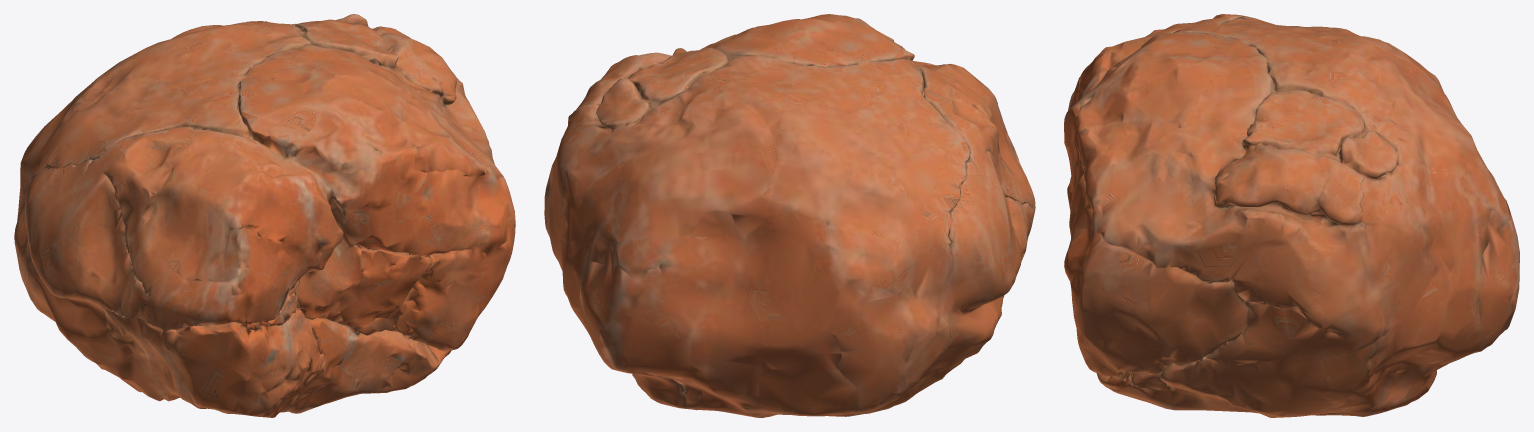
Rendered from moon-rock.glb.
3 renders of one model, left to right at view 1: azimuth 30°, elevation 25°; view 2: azimuth 150°, elevation 25°; view 3: azimuth 270°, elevation 25°, orthographic. The views are drawn at different scales.
Bounding box in the file's own units: 1.9 × 1.33 × 1.7.
1 material, 1 textured.
